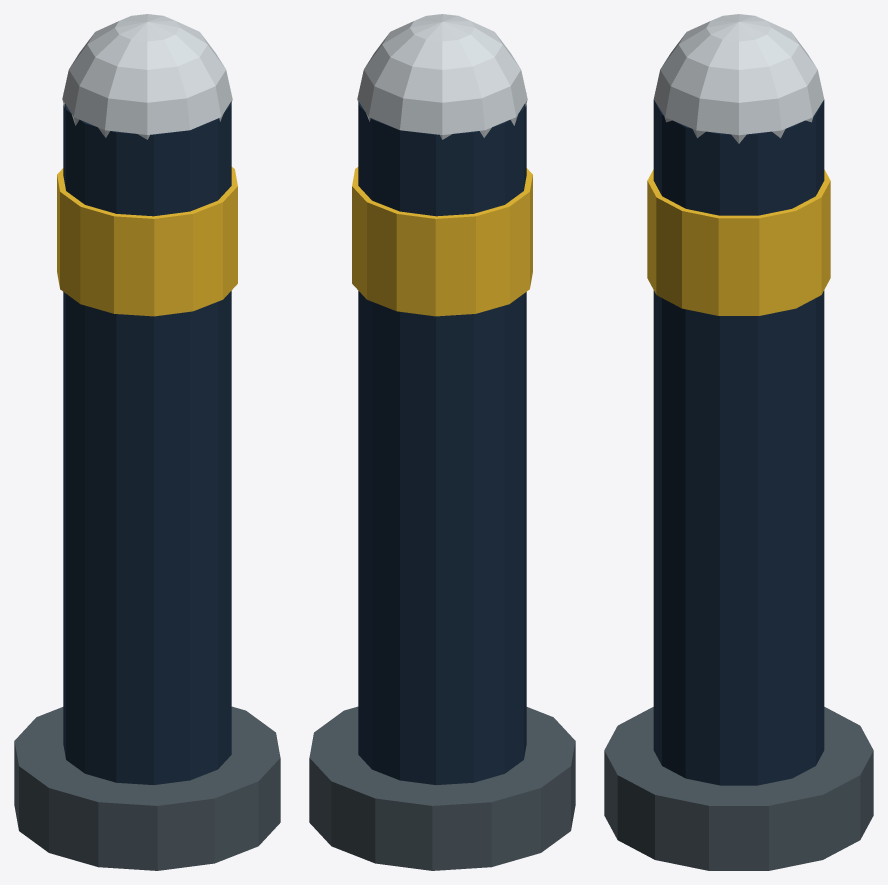
File: parking_bollard.glb
The picture shows the model from 3 angles, left to right: view 1: azimuth 30°, elevation 25°; view 2: azimuth 150°, elevation 25°; view 3: azimuth 270°, elevation 25°; orthographic projection.
Visible parts, largest first — view 1: BollardPost, BollardBase, BollardBand, BollardCap; view 2: BollardPost, BollardBase, BollardBand, BollardCap; view 3: BollardPost, BollardBase, BollardBand, BollardCap.
Part boxes in pixels (x1,y1,x2,y2): BollardPost: (63,102,231,785); BollardBase: (14,706,280,870); BollardBand: (57,167,237,316); BollardCap: (62,14,232,139); BollardPost: (358,102,526,785); BollardBase: (309,706,575,870); BollardBand: (352,167,532,316); BollardCap: (357,14,527,139); BollardPost: (653,99,824,785); BollardBase: (604,707,873,870); BollardBand: (647,169,830,315); BollardCap: (654,14,823,143).
Size of the model in its own units: 0.2925 by 0.975 by 0.3.
